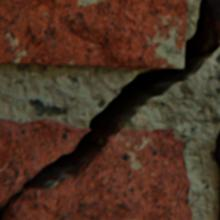brick: (0, 0, 188, 67), (208, 0, 219, 46), (215, 131, 219, 166)
broken_brick: (10, 128, 193, 219), (0, 117, 90, 203)
crack: (0, 0, 218, 219)
